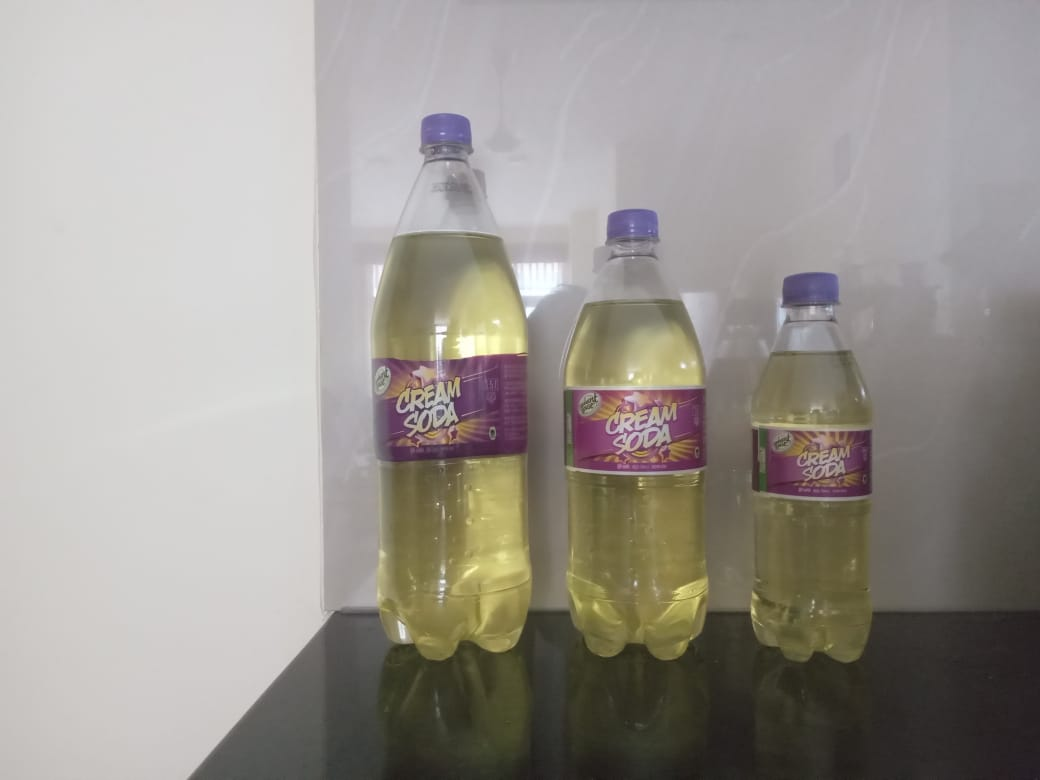L: (369, 111, 542, 669)
M: (559, 207, 712, 667)
S: (743, 269, 884, 672)
